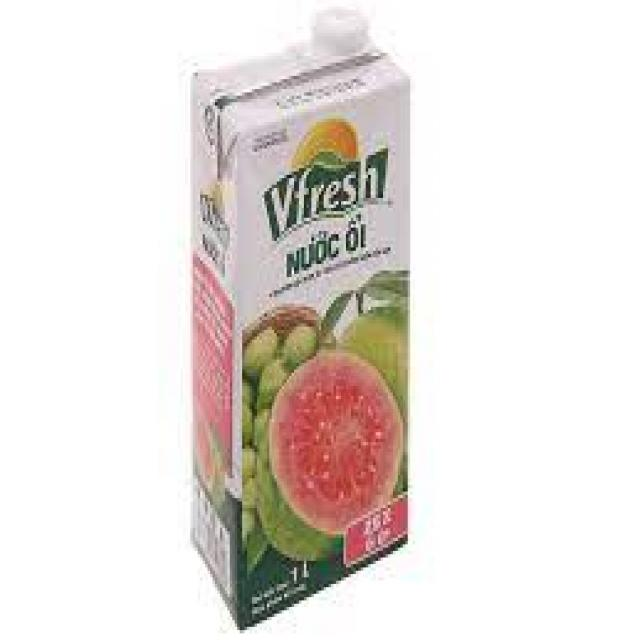non_white_jug: (166, 142, 386, 640)
